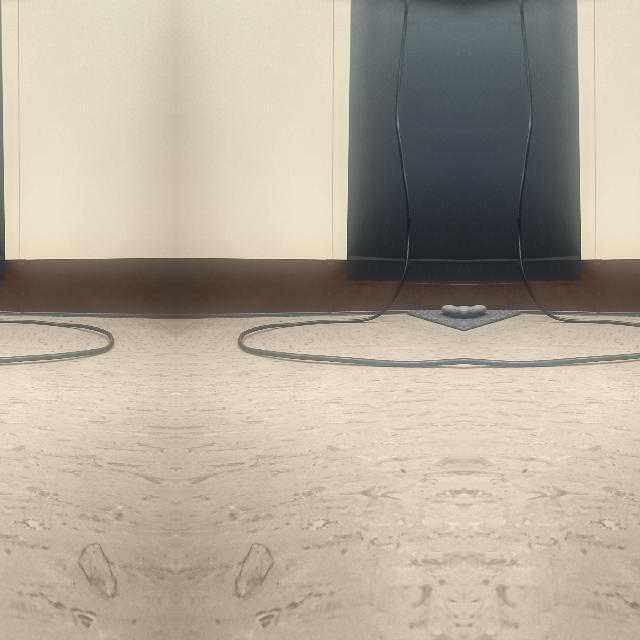obstacle: (236, 310, 464, 368), (464, 310, 640, 367), (0, 310, 114, 367)
